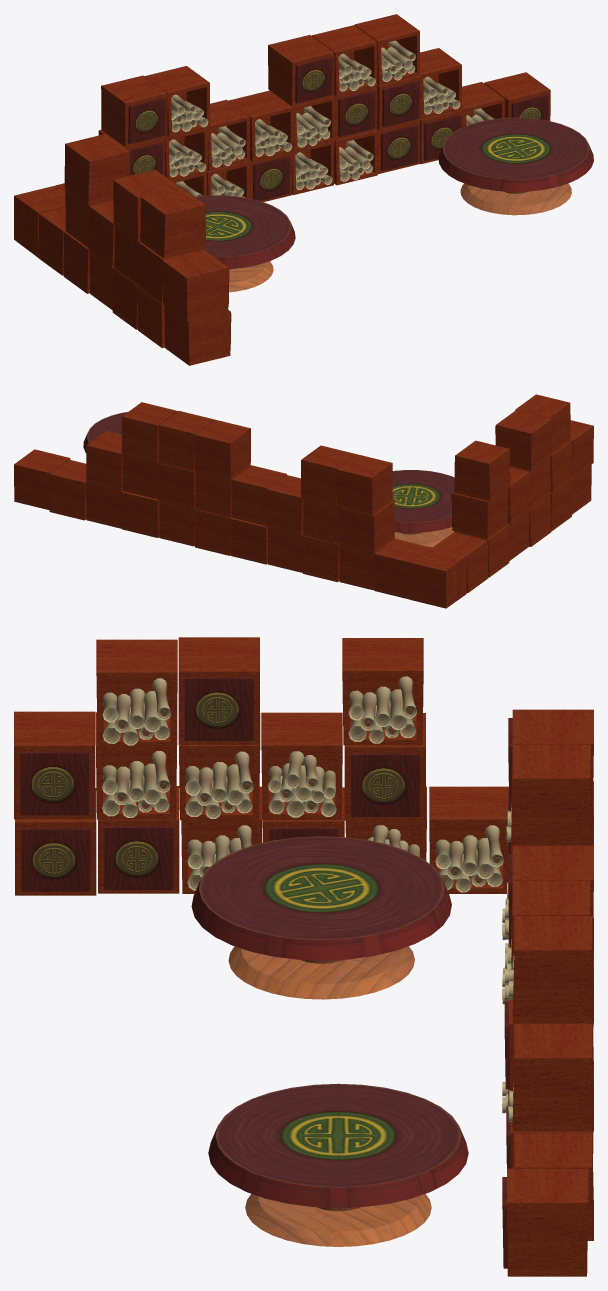
Rendered from tables.obj.
The picture shows the model from 3 angles, top to bottom: view 1: azimuth 30°, elevation 25°; view 2: azimuth 150°, elevation 25°; view 3: azimuth 270°, elevation 25°; orthographic projection. The views are drawn at different scales.
Visible parts, largest first — view 1: Structure_MfurnituresLeft_0; view 2: Structure_MfurnituresLeft_0; view 3: Structure_MfurnituresLeft_0.
Part boxes in pixels (box(x1,y1,x2,y2)): Structure_MfurnituresLeft_0: box(14, 14, 593, 365); Structure_MfurnituresLeft_0: box(14, 394, 593, 608); Structure_MfurnituresLeft_0: box(14, 637, 593, 1276).
Size of the model in its own units: 575 by 143 by 338.
1 material, 1 textured.
